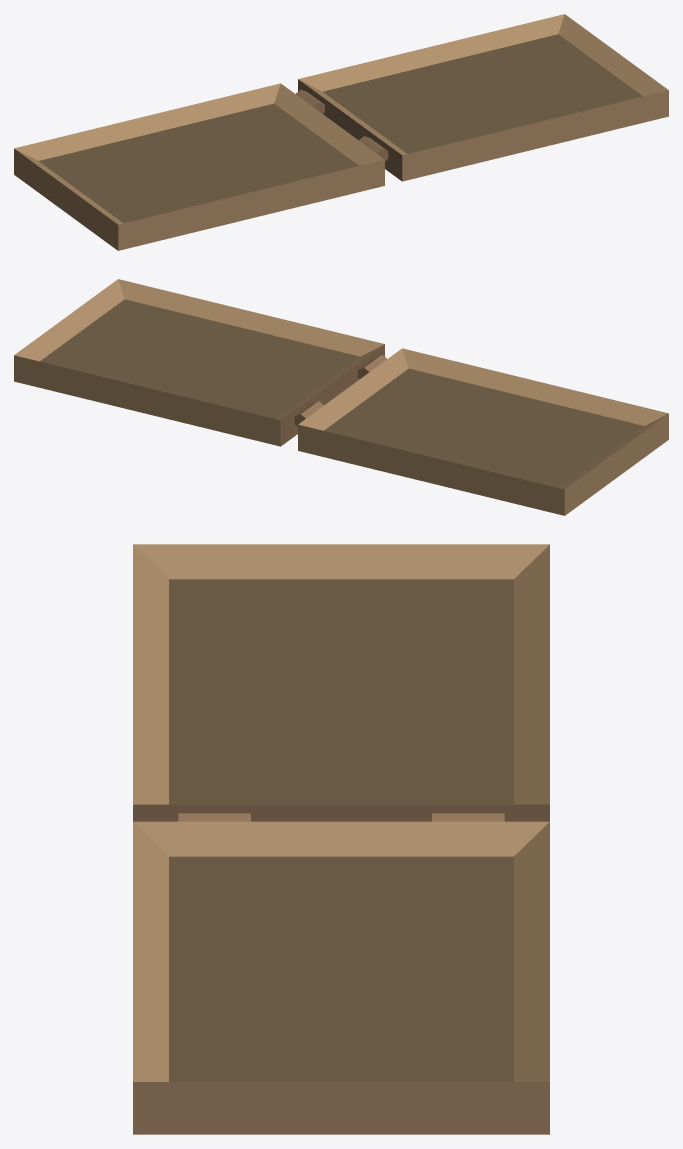
Rendered from prop-diptych-blank.fbx.
3 renders of one model, top to bottom at view 1: azimuth 30°, elevation 25°; view 2: azimuth 150°, elevation 25°; view 3: azimuth 270°, elevation 25°, orthographic. The views are drawn at different scales.
Parts seen in each view (by area): view 1: prop-diptych-blank; view 2: prop-diptych-blank; view 3: prop-diptych-blank.
Boxes of the visible parts, bbox=[...] form: prop-diptych-blank: bbox=[14, 14, 668, 250]; prop-diptych-blank: bbox=[14, 279, 668, 515]; prop-diptych-blank: bbox=[133, 544, 549, 1134].
Size of the model in its own units: 35.1 by 1.6 by 11.5.
